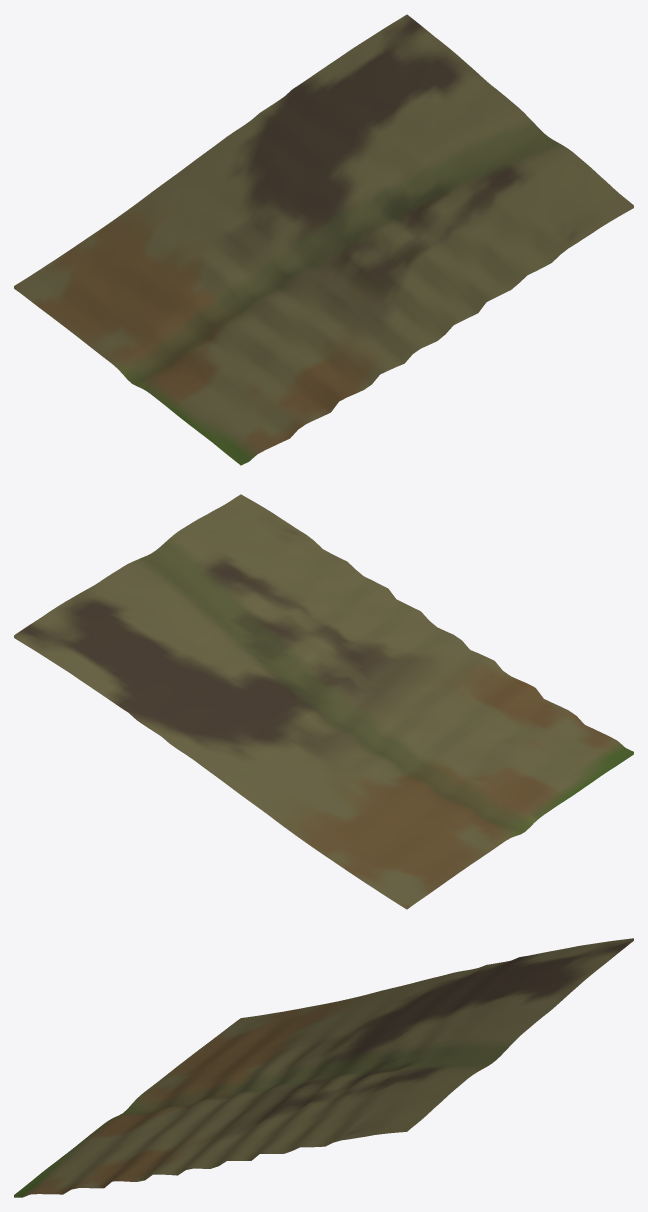
File: land_m_09_06.glb
The picture shows the model from 3 angles, top to bottom: view 1: azimuth 30°, elevation 25°; view 2: azimuth 150°, elevation 25°; view 3: azimuth 330°, elevation 25°; orthographic projection.
Parts seen in each view (by area): view 1: land_m_09_06; view 2: land_m_09_06; view 3: land_m_09_06.
Part boxes in pixels (box(x1,y1,x2,y2)): land_m_09_06: box(14, 14, 633, 465); land_m_09_06: box(14, 494, 633, 909); land_m_09_06: box(14, 938, 633, 1197).
Bounding box in the file's own units: 960 × 442 × 960.
